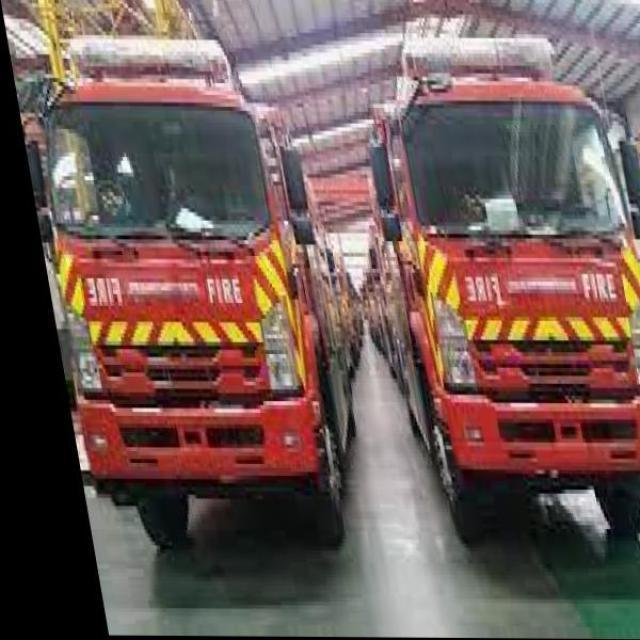emergency: (19, 32, 361, 550), (364, 19, 640, 547)
